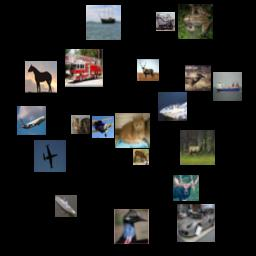airplane: (34, 140, 66, 172), (17, 106, 46, 135), (92, 116, 114, 138)
automobile: (177, 204, 215, 242)
bird: (114, 209, 149, 244)
cat: (115, 113, 150, 148), (71, 115, 90, 134)
deer: (180, 130, 215, 165), (185, 65, 211, 91), (173, 175, 199, 201), (137, 59, 159, 81), (133, 149, 149, 165)
frog: (178, 4, 213, 39)
ship: (86, 5, 121, 40), (158, 92, 187, 121), (213, 72, 242, 101), (55, 195, 77, 217)
truck: (65, 49, 103, 87), (156, 12, 175, 31)
